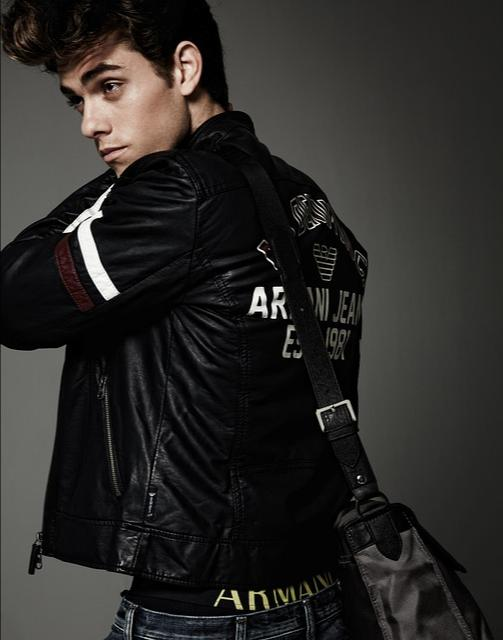Non_Gorille: (10, 0, 462, 640)
